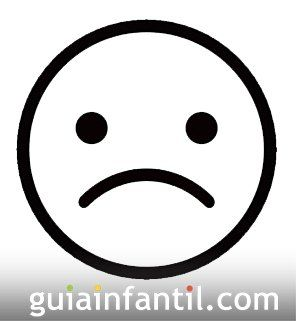triste: (65, 104, 229, 217)
